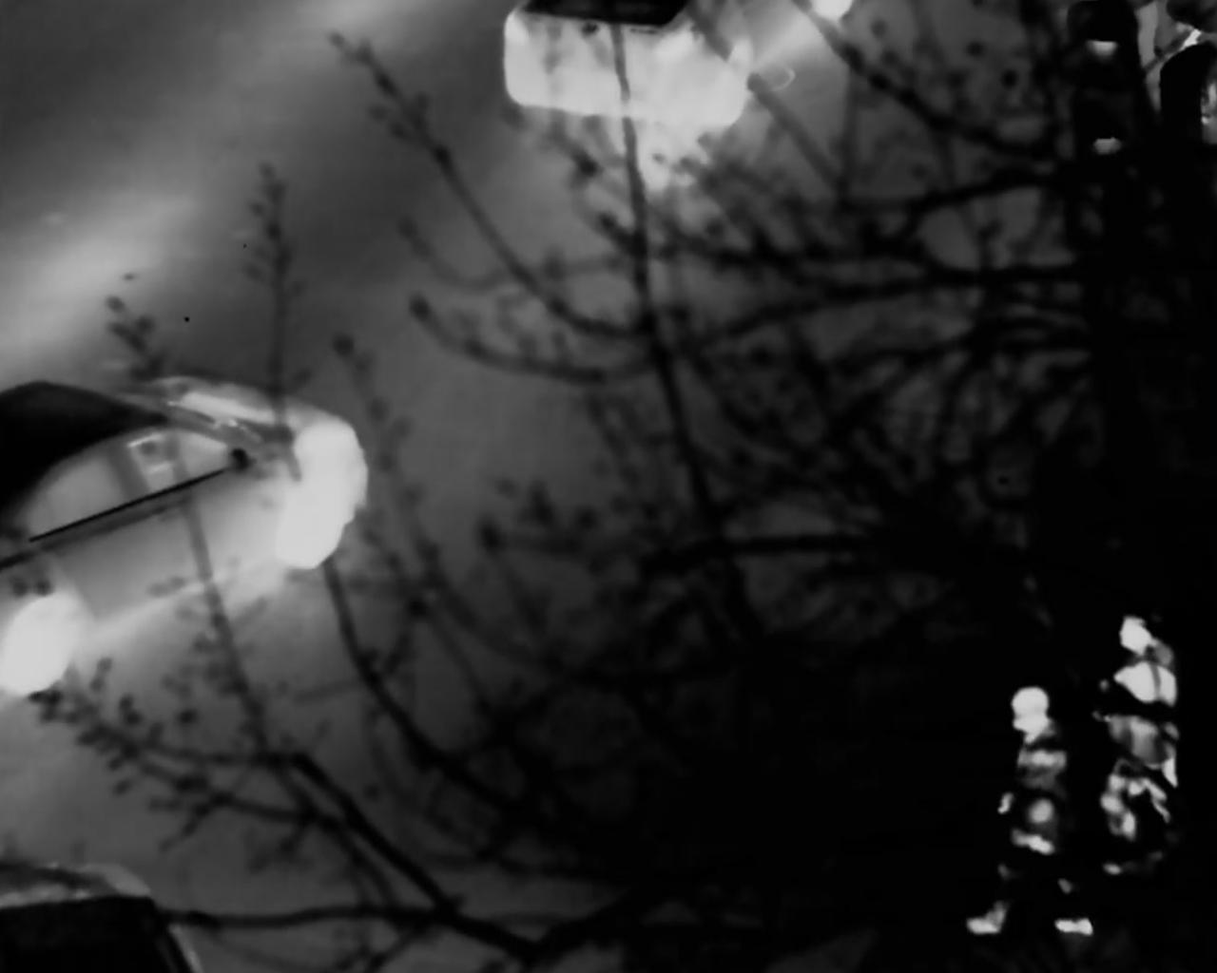person: (979, 687, 1102, 956), (1099, 609, 1182, 871)
